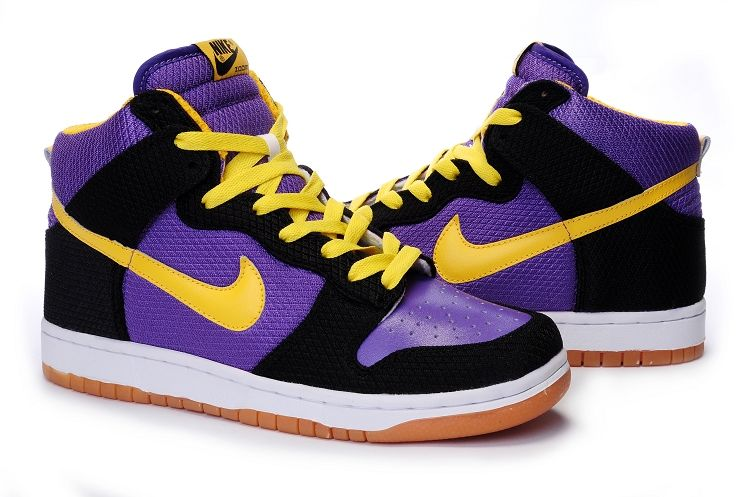nike: (431, 164, 697, 281), (59, 208, 269, 332)
